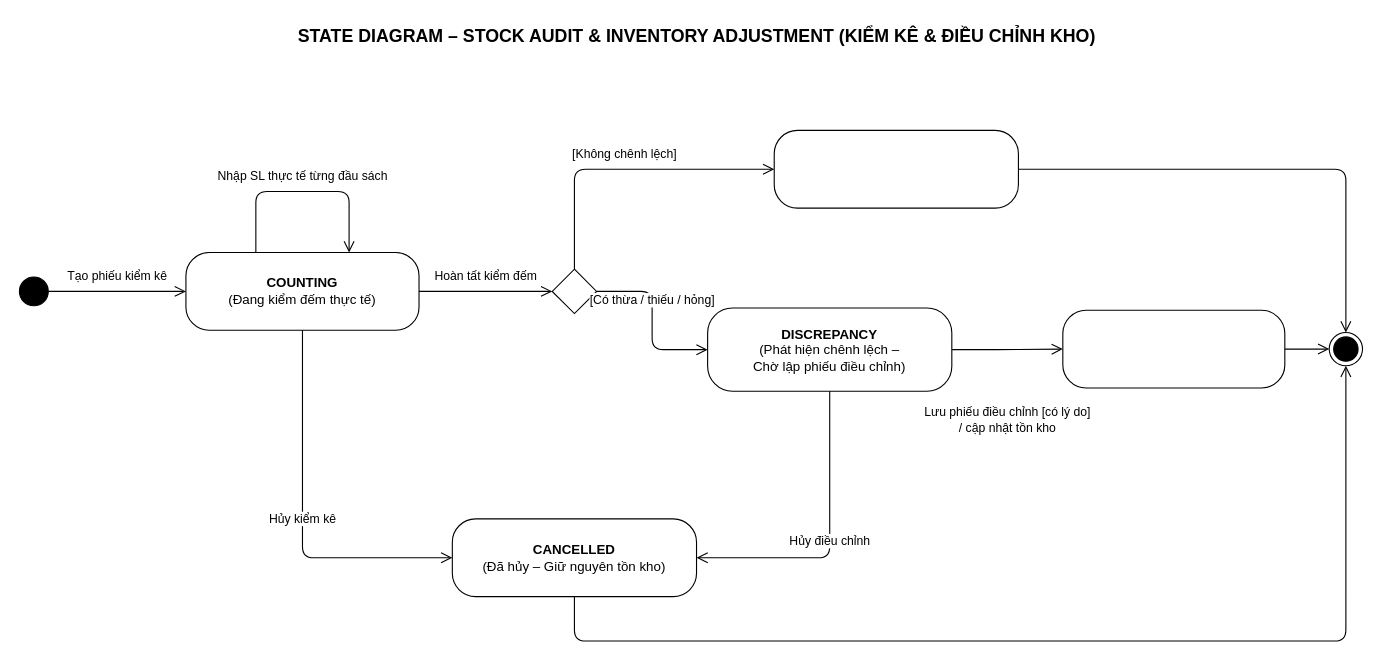
Some shapes in this 1382 by 672 pixel diagram are drawn without their labels. Each missing label, with the centre of its shape:
"ADJUSTED (Đã cân bằng tồn kho)" goes at point 1173,348.
"BALANCED (Đã ghi nhận – Khớp tồn kho)" goes at point 895,168.
